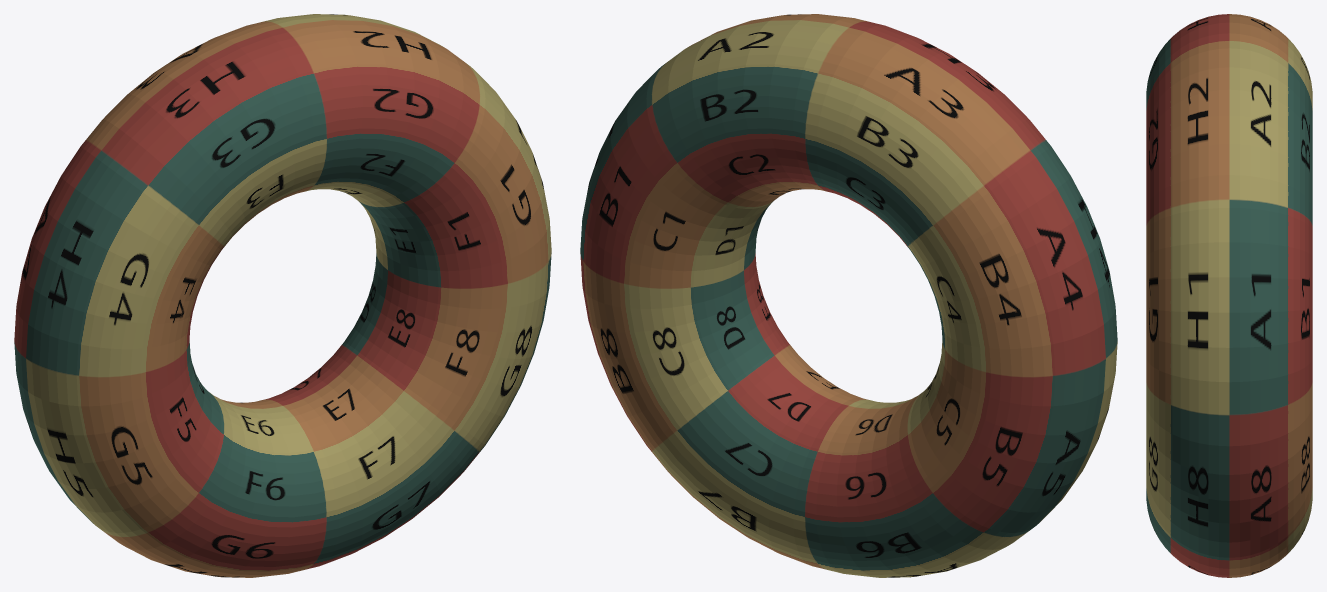
Rendered from texture_torus_R16_r25.glb.
3 renders of one model, left to right at view 1: azimuth 30°, elevation 25°; view 2: azimuth 150°, elevation 25°; view 3: azimuth 270°, elevation 25°, orthographic. The views are drawn at different scales.
Visible parts, largest first — view 1: world; view 2: world; view 3: world.
Part boxes in pixels (left/top/right/bottom): world: left=14, top=14, right=551, bottom=577; world: left=580, top=14, right=1117, bottom=577; world: left=1146, top=14, right=1312, bottom=577.
Size of the model in its own units: 29.33 by 29.28 by 8.65.
Materials: 1 (1 with a texture image).
